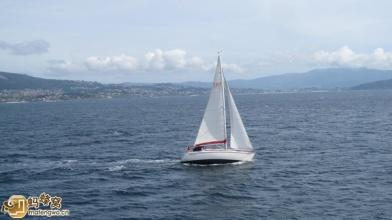fanchuan: (169, 47, 261, 170)
